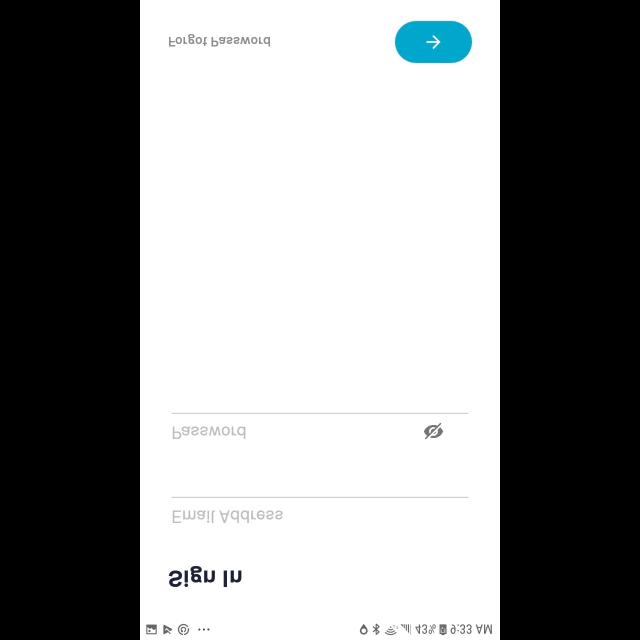icon: (424, 422, 444, 440)
input: (172, 412, 468, 440), (172, 497, 468, 523)
text: (170, 566, 242, 586), (173, 510, 283, 522), (170, 34, 270, 46), (172, 426, 245, 438)
textbutton: (394, 21, 472, 63)
uppertaskbar: (140, 622, 500, 640)
